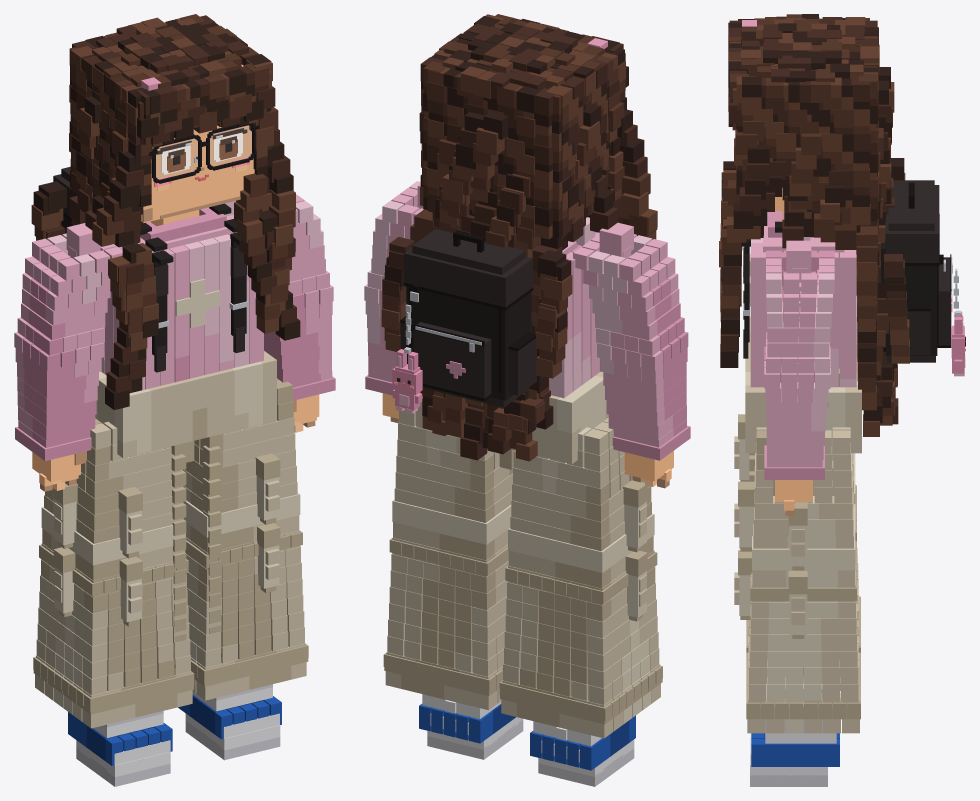
File: britney.4fb636f0.glb
3 views of the same model, side by side, from view 1: azimuth 30°, elevation 25°; view 2: azimuth 150°, elevation 25°; view 3: azimuth 270°, elevation 25° (orthographic).
Parts seen in each view (by area): view 1: cargo_shade, cargo_cream, sweater_pink, cargo_light, hair_deep, sweater_shade, hair_brown, hair_mid, hair_light, skin, sweater_light, shoe_white (+9 smaller); view 2: cargo_cream, cargo_shade, hair_light, sweater_pink, hair_mid, hair_deep, hair_brown, bag_grey, cargo_light, sweater_light, sweater_shade, bag_black (+8 smaller); view 3: cargo_cream, sweater_pink, hair_deep, hair_mid, cargo_light, hair_brown, hair_light, cargo_shade, bag_grey, sweater_light, bag_black, shoe_blue (+6 smaller).
Part boxes in pixels (x1,y1,x2,y2): cargo_shade: [33, 360, 308, 717]; cargo_cream: [35, 351, 306, 728]; sweater_pink: [14, 194, 333, 437]; cargo_light: [41, 278, 300, 721]; hair_deep: [33, 19, 300, 409]; sweater_shade: [15, 207, 335, 461]; hair_brown: [46, 15, 296, 392]; hair_mid: [34, 14, 295, 337]; hair_light: [31, 17, 295, 351]; skin: [32, 64, 319, 486]; sweater_light: [47, 201, 323, 392]; shoe_white: [76, 687, 280, 776]; cargo_cream: [385, 371, 660, 738]; cargo_shade: [383, 358, 662, 727]; hair_light: [381, 14, 657, 461]; sweater_pink: [368, 184, 679, 447]; hair_mid: [382, 14, 657, 449]; hair_deep: [385, 16, 644, 448]; hair_brown: [382, 18, 647, 460]; bag_grey: [400, 229, 536, 407]; cargo_light: [392, 376, 654, 724]; sweater_light: [364, 181, 652, 398]; sweater_shade: [365, 245, 690, 460]; bag_black: [406, 215, 589, 400]; cargo_cream: [734, 324, 861, 733]; sweater_pink: [750, 212, 856, 467]; hair_deep: [720, 14, 905, 423]; hair_mid: [720, 14, 909, 415]; cargo_light: [739, 254, 857, 733]; hair_brown: [720, 16, 906, 424]; hair_light: [719, 17, 909, 436]; cargo_shade: [738, 344, 860, 719]; bag_grey: [743, 180, 950, 362]; sweater_light: [751, 237, 856, 431]; bag_black: [742, 221, 937, 355]; shoe_blue: [751, 733, 839, 766].
Size of the model in its own units: 0.7363 by 1.7 by 0.5384.
